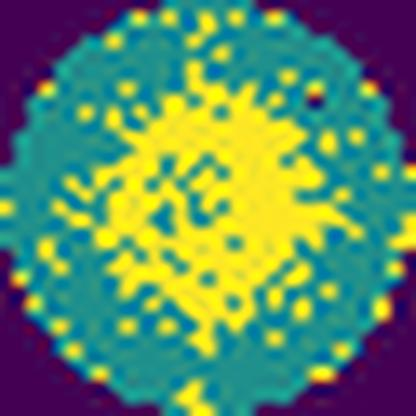Center: (86, 58, 360, 354)
